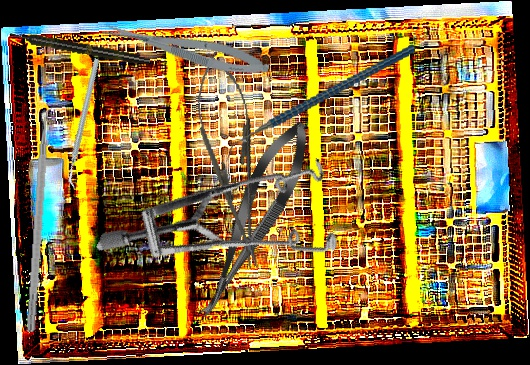Chopper: (212, 43, 428, 164), (24, 57, 145, 190), (26, 98, 64, 333)
Handpiece: (9, 28, 151, 68)
Micro Scissor: (184, 113, 323, 327), (100, 12, 272, 84)
Needle Holder: (185, 48, 278, 273)
Speculum: (95, 90, 366, 339)
